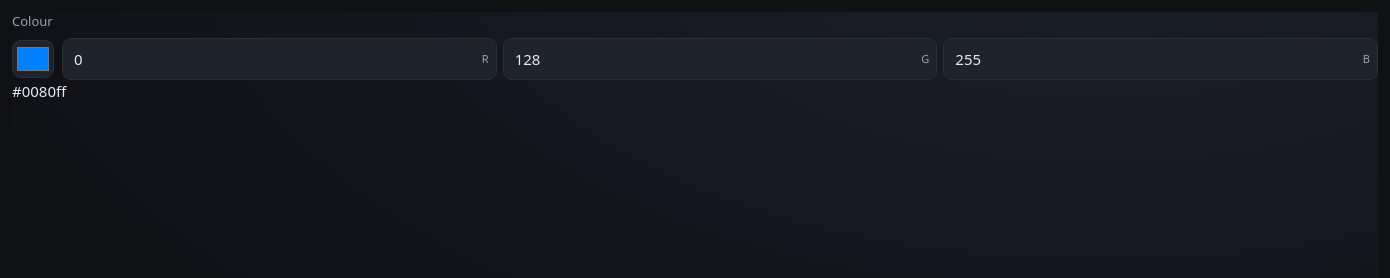
Test: ColorField — rgb format › re-encodes to hex when a channel changes
Replace the text in the number field labelled "r" with "255" at (279, 59), box [62,38,497,80]
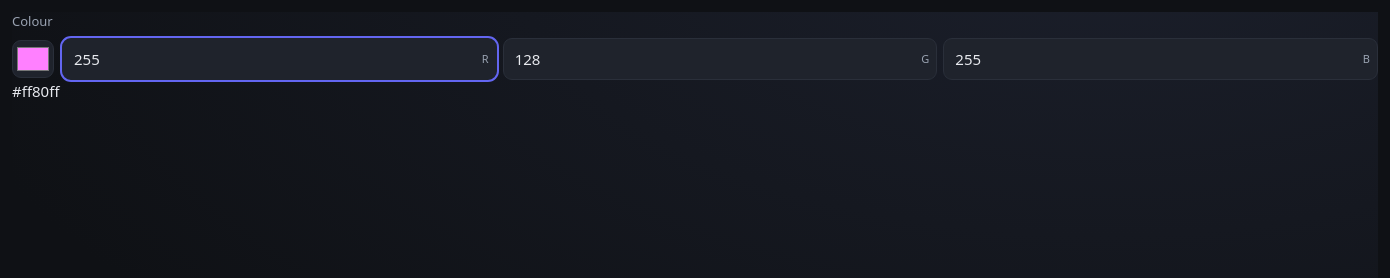
expect the text with test id "value" reads "#ff80ff": met, box [12,81,60,101]
